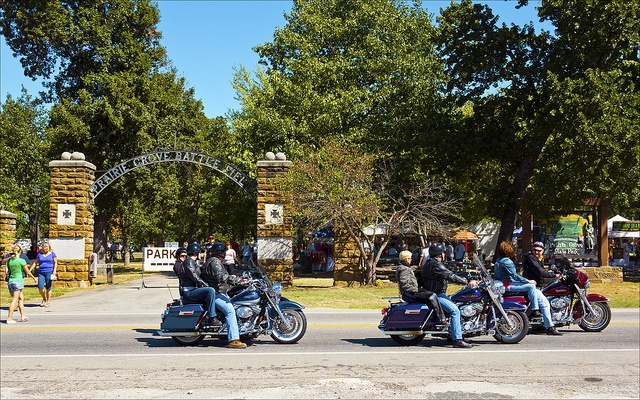non-vehicle: (374, 244, 528, 347), (152, 249, 306, 346), (452, 255, 609, 335)
